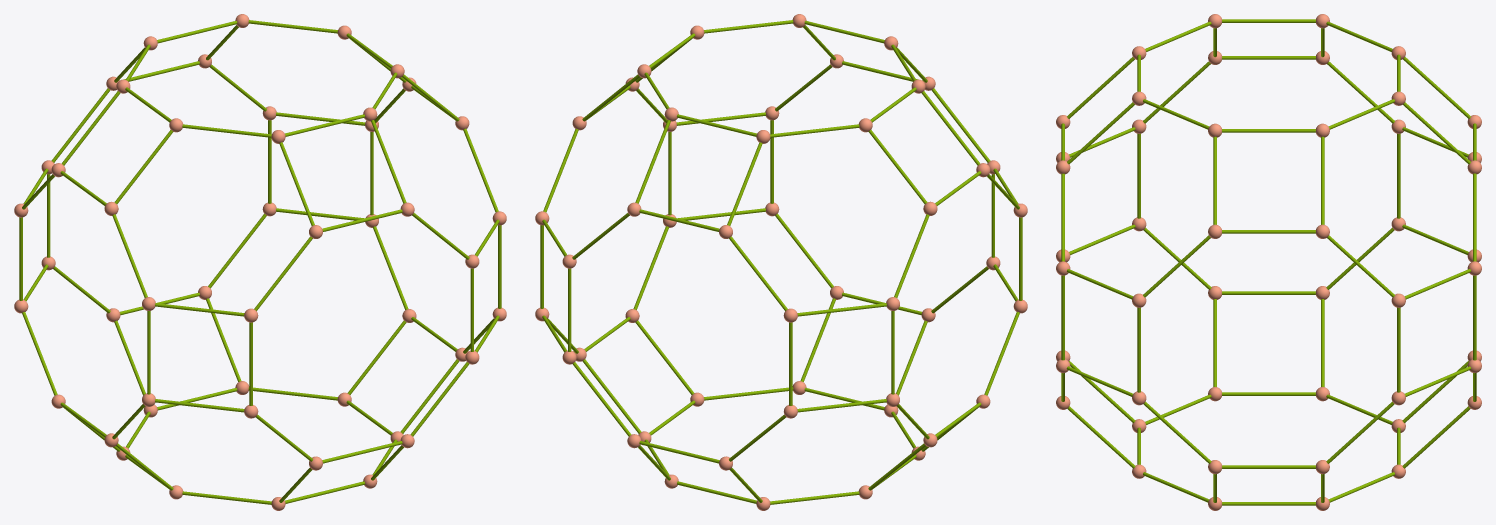
The model's file is truncated_cuboctahedron.glb.
The picture shows the model from 3 angles, left to right: view 1: azimuth 30°, elevation 25°; view 2: azimuth 150°, elevation 25°; view 3: azimuth 270°, elevation 25°; orthographic projection.
Bounding box in the file's own units: 7.73 × 7.72 × 7.73.
